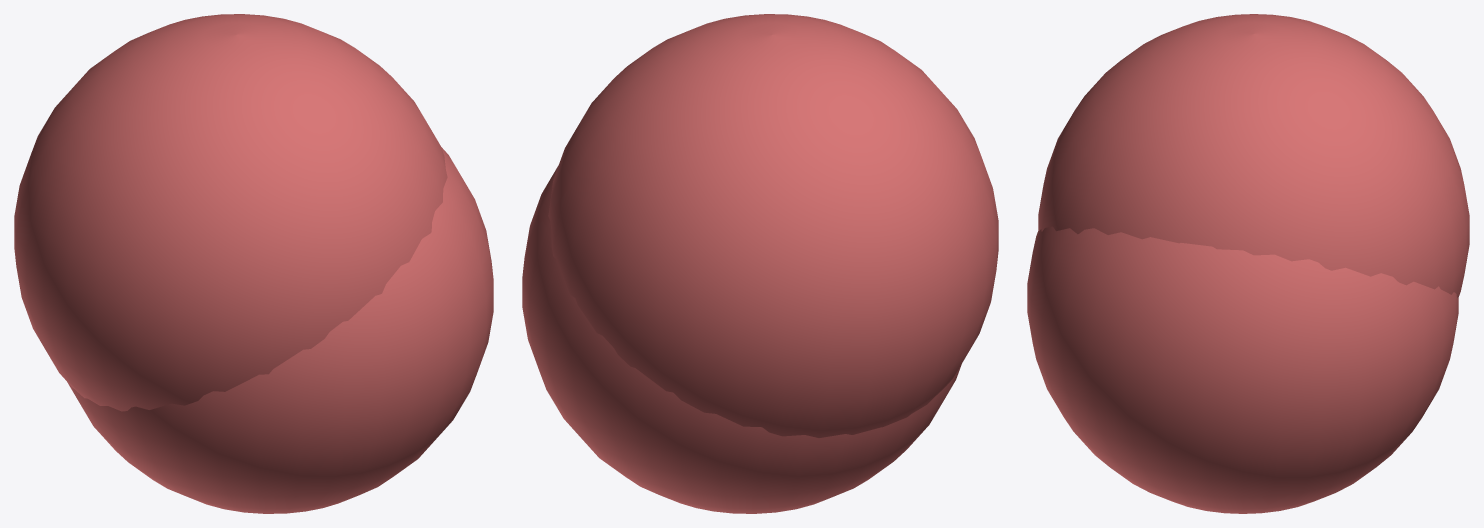
File: bromine.fbx
3 renders of one model, left to right at view 1: azimuth 30°, elevation 25°; view 2: azimuth 150°, elevation 25°; view 3: azimuth 270°, elevation 25°, orthographic. The views are drawn at different scales.
Visible parts, largest first — view 1: Bromine_mesh|Bromine_ball|Dupli|, Bromine_ball; view 2: Bromine_mesh|Bromine_ball|Dupli|, Bromine_ball; view 3: Bromine_ball, Bromine_mesh|Bromine_ball|Dupli|.
Boxes of the visible parts, box(x1,y1,x2,y2) form: Bromine_mesh|Bromine_ball|Dupli|: box(14, 14, 447, 411); Bromine_ball: box(67, 147, 493, 513); Bromine_mesh|Bromine_ball|Dupli|: box(548, 14, 998, 437); Bromine_ball: box(522, 166, 961, 513); Bromine_ball: box(1027, 226, 1458, 513); Bromine_mesh|Bromine_ball|Dupli|: box(1038, 14, 1469, 298).
Bounding box in the file's own units: 244 × 260 × 233.
